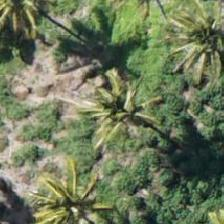coconut_tree: (33, 166, 123, 223), (169, 0, 223, 83), (0, 0, 59, 48)
